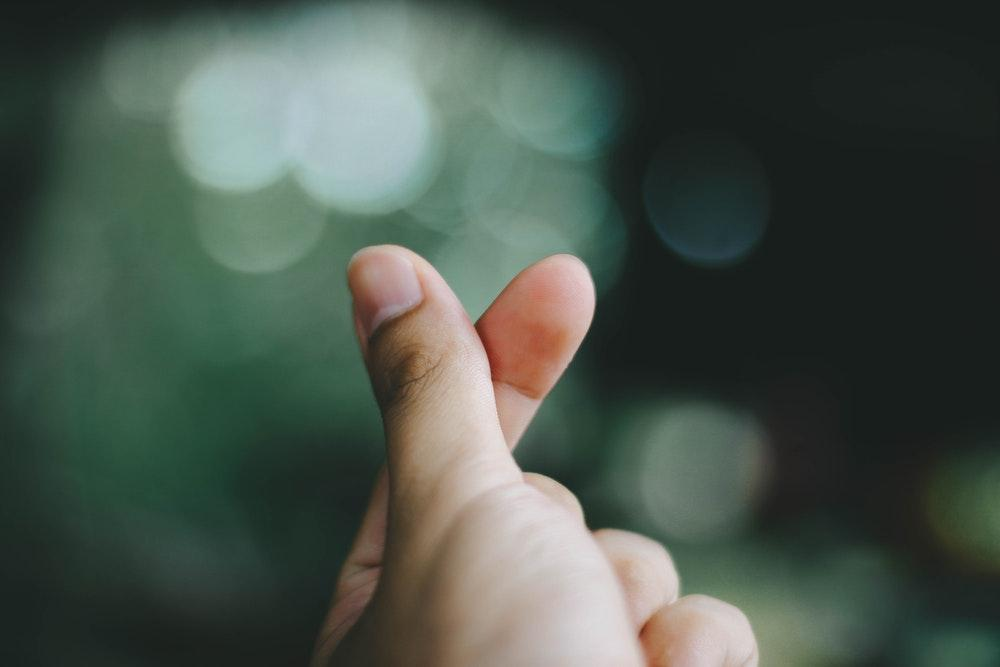heart gesture: (345, 241, 600, 472)
